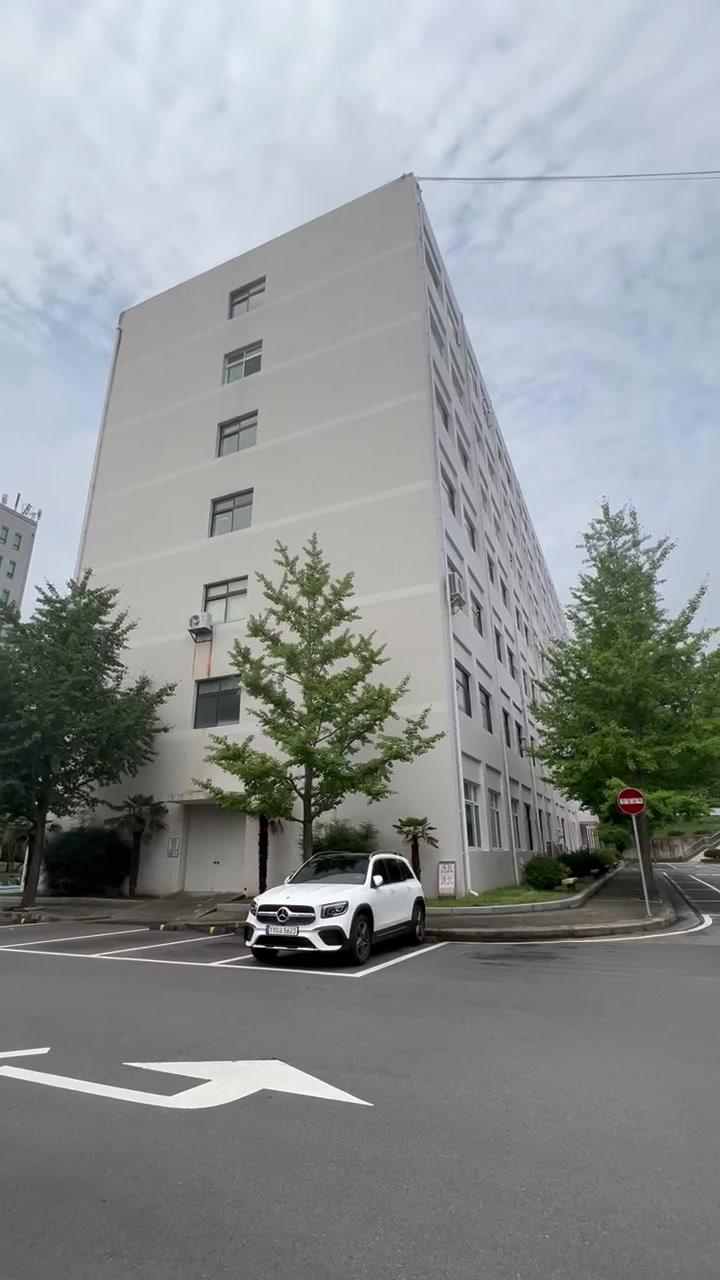building: (60, 202, 536, 612)
